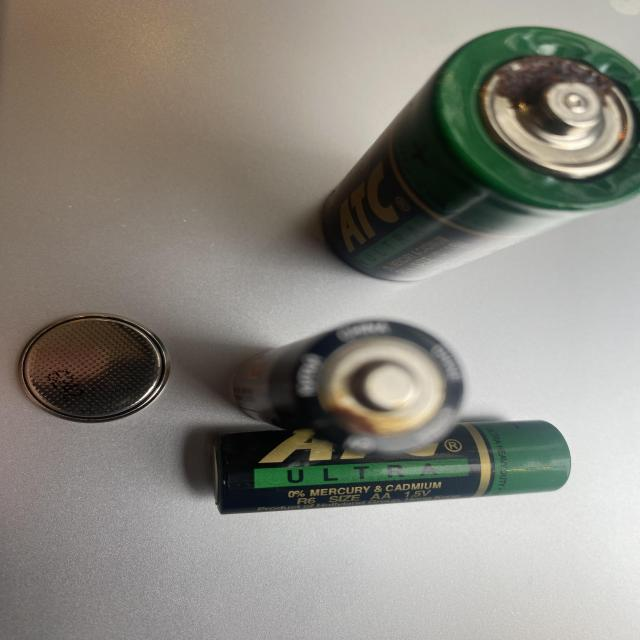AA: (208, 417, 574, 518)
COIN: (15, 311, 174, 426)
